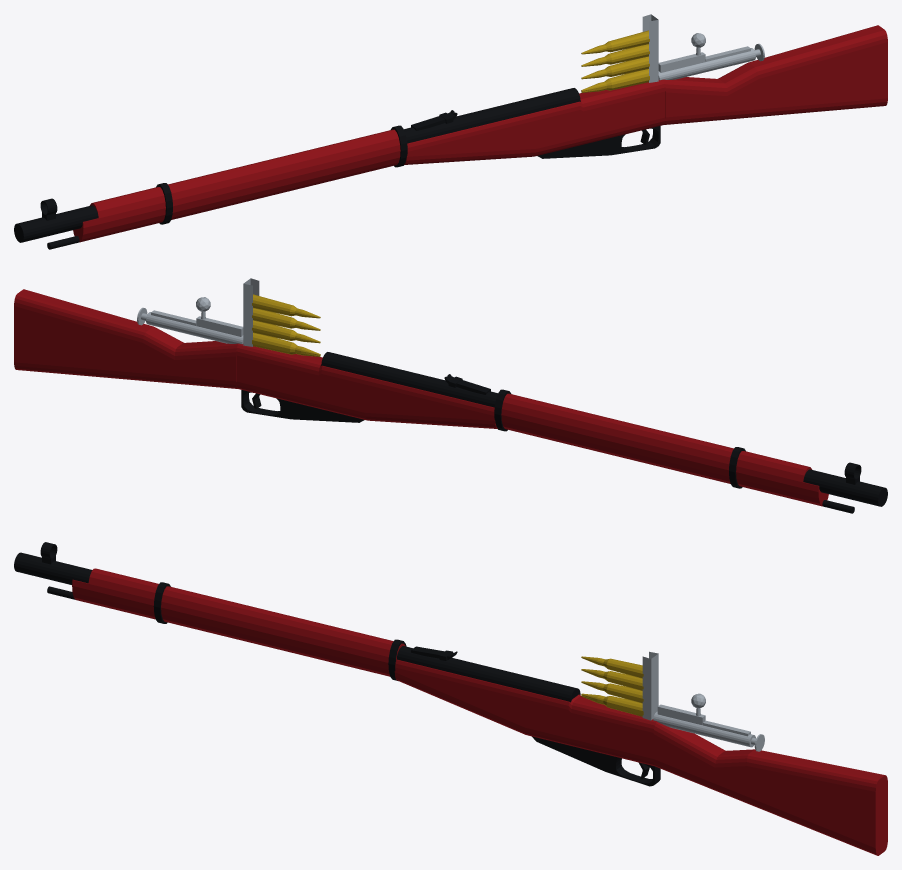
Rendered from mosin-nagant0041.obj.
The picture shows the model from 3 angles, top to bottom: view 1: azimuth 30°, elevation 25°; view 2: azimuth 150°, elevation 25°; view 3: azimuth 330°, elevation 25°; orthographic projection.
Visible parts, largest first — view 1: stock, barrel, triggerGuard, bolt, clip, bullet1, bullet3, bullet2, bullet4, boltLocker; view 2: stock, barrel, triggerGuard, bolt, clip, bullet1, bullet3, bullet2, bullet4, boltLocker; view 3: stock, barrel, triggerGuard, bolt, clip, bullet1, bullet3.
Boxes of the visible parts, left/top/right/bottom form: stock: left=73, top=25, right=887, bottom=242; barrel: left=14, top=88, right=580, bottom=242; triggerGuard: left=537, top=126, right=660, bottom=158; bolt: left=658, top=48, right=755, bottom=80; clip: left=642, top=14, right=658, bottom=82; bullet1: left=581, top=30, right=649, bottom=54; bullet3: left=581, top=56, right=649, bottom=79; bullet2: left=581, top=44, right=649, bottom=66; bullet4: left=581, top=69, right=649, bottom=91; boltLocker: left=658, top=52, right=705, bottom=72; stock: left=14, top=289, right=828, bottom=506; barrel: left=321, top=352, right=887, bottom=506; triggerGuard: left=241, top=390, right=364, bottom=422; bolt: left=146, top=312, right=243, bottom=344; clip: left=243, top=278, right=259, bottom=346; bullet1: left=252, top=294, right=320, bottom=318; bullet3: left=252, top=320, right=320, bottom=343; bullet2: left=252, top=308, right=320, bottom=330; bullet4: left=252, top=333, right=320, bottom=355; boltLocker: left=196, top=316, right=243, bottom=336; stock: left=72, top=568, right=887, bottom=855; barrel: left=14, top=552, right=580, bottom=702; triggerGuard: left=532, top=736, right=660, bottom=786; bolt: left=653, top=711, right=755, bottom=747; clip: left=642, top=651, right=658, bottom=720; bullet1: left=581, top=656, right=643, bottom=678; bullet3: left=581, top=681, right=643, bottom=703.
Size of the model in its own units: 16.32 by 2.57 by 0.4228.
